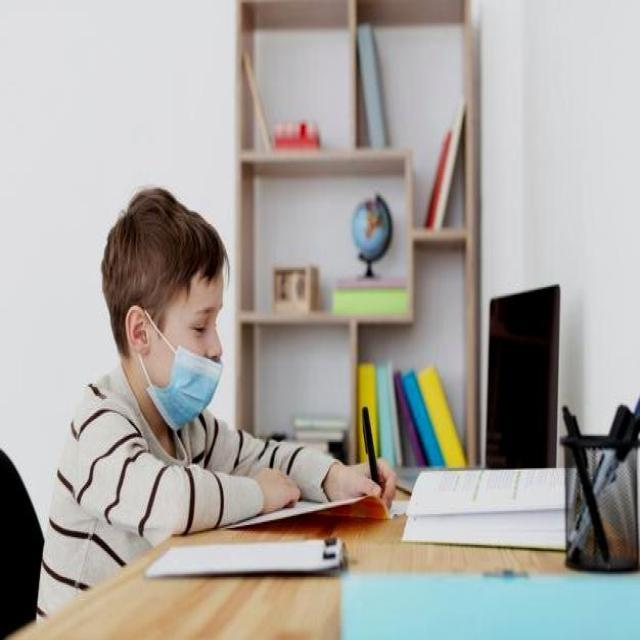hairnet: (104, 183, 228, 434)
